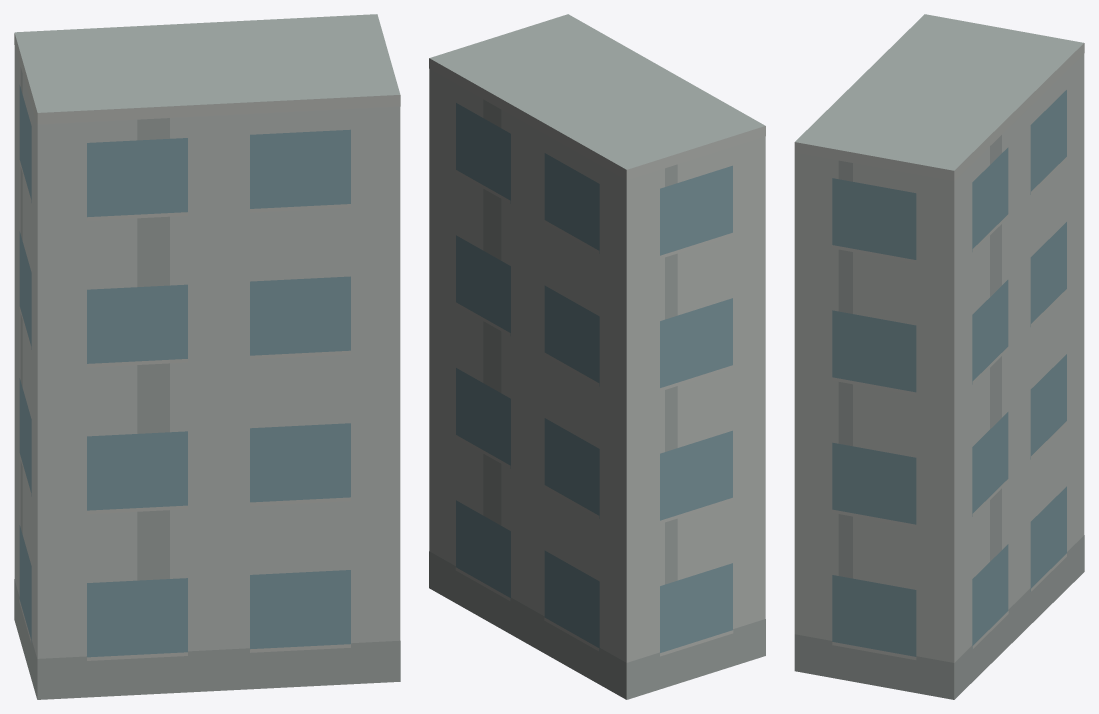
File: survey-upis-32697721.glb
3 views of the same model, side by side, from view 1: azimuth 30°, elevation 25°; view 2: azimuth 150°, elevation 25°; view 3: azimuth 270°, elevation 25° (orthographic). The views are drawn at different scales.
Visible parts, largest first — view 1: survey-upis-32697721.tmp; view 2: survey-upis-32697721.tmp; view 3: survey-upis-32697721.tmp.
Part boxes in pixels (x1,y1,x2,y2): survey-upis-32697721.tmp: (14, 14, 400, 699); survey-upis-32697721.tmp: (429, 14, 765, 699); survey-upis-32697721.tmp: (794, 14, 1084, 699).
Size of the model in its own units: 7.76 by 12.2 by 6.06.
